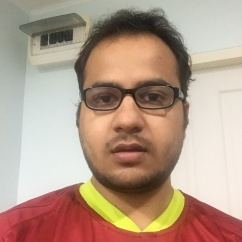glasses: (75, 83, 187, 112)
